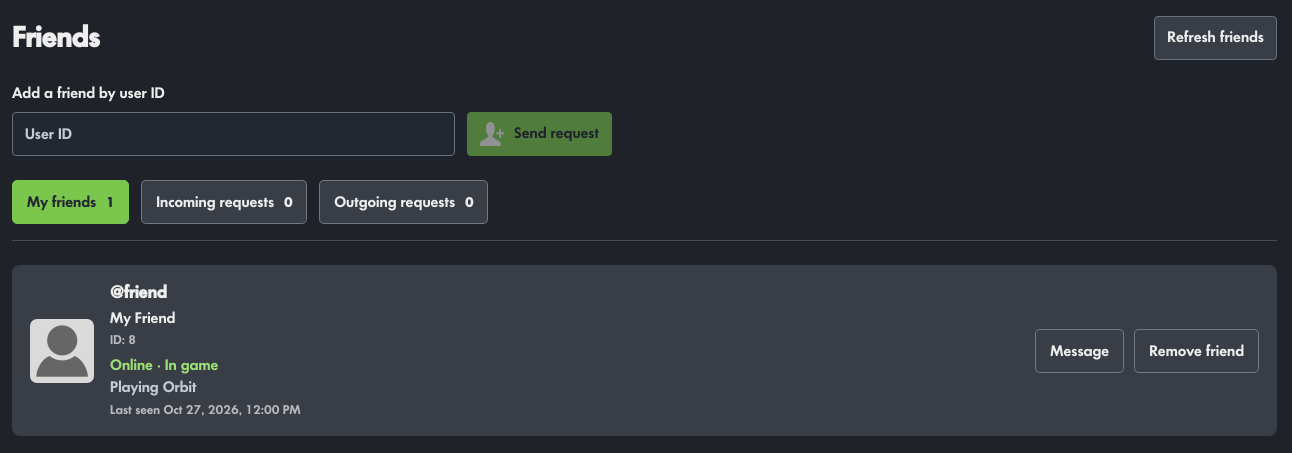
403 on refresh clears private friend cards and offers retry
This screenshot has width=1292, height=453.
Expected: the text "Playing Orbit" is shown, 110,379 -> 196,395
Click the button "Refresh friends".
click(1216, 38)  # box 1154,16 -> 1277,60
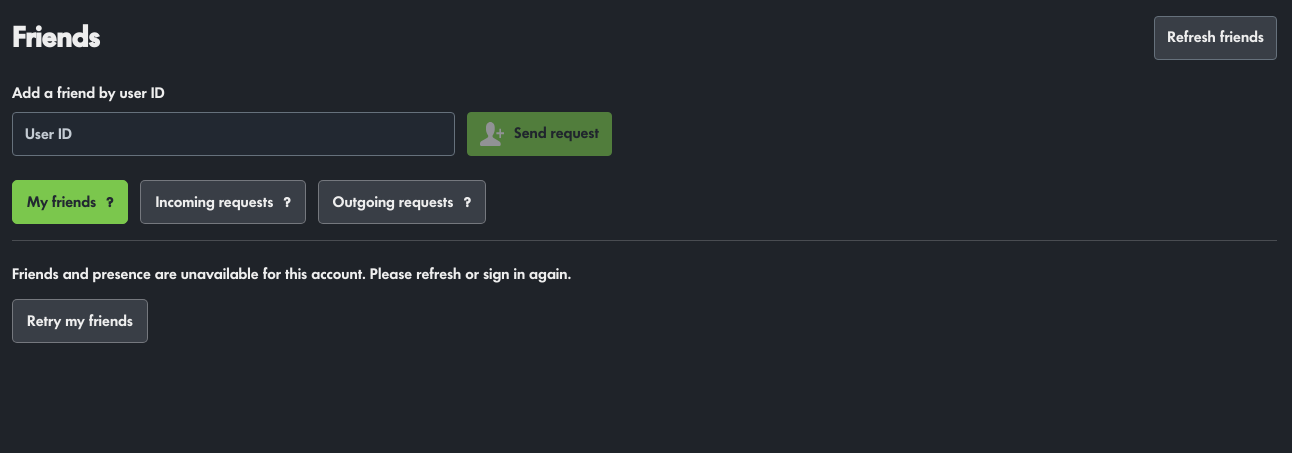
Result: the message shows "Friends and presence are unavailable" at 12,266 -> 571,282
Result: the link "@friend" is gone
Result: the link "Playing Orbit" is gone
